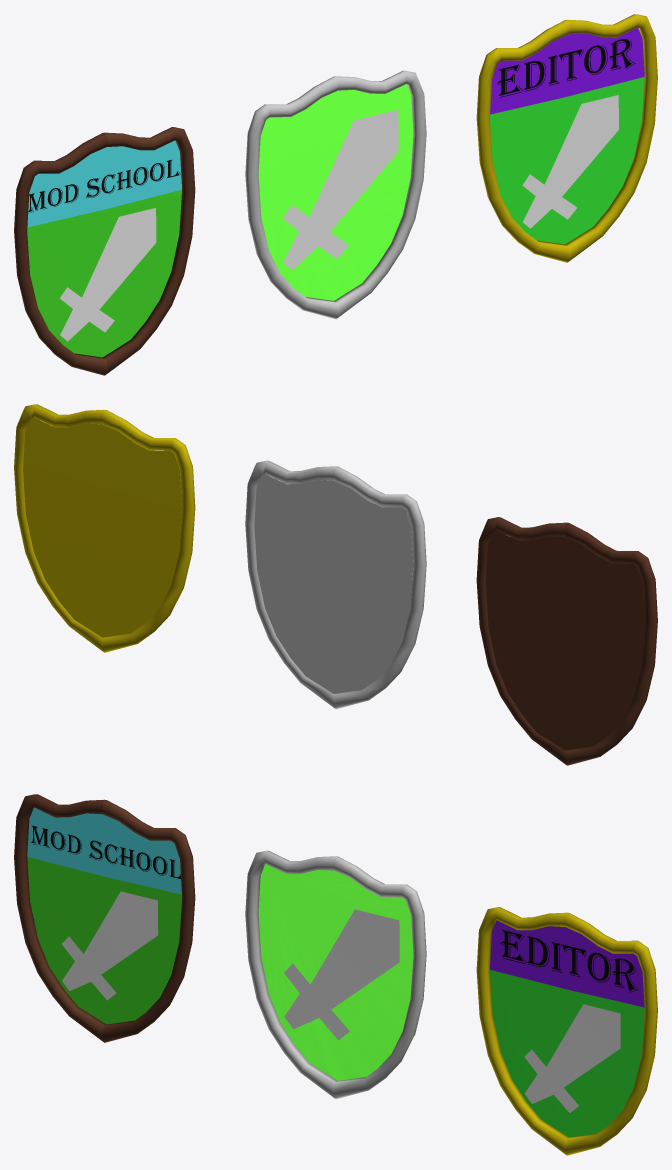
The model's file is Mod badges.fbx.
3 views of the same model, one above another, from view 1: azimuth 30°, elevation 25°; view 2: azimuth 150°, elevation 25°; view 3: azimuth 330°, elevation 25° (orthographic).
Parts seen in each view (by area): view 1: interior editor, Interior mod school, Interior, background mod school, background, background editor; view 2: background mod school, background, background editor; view 3: Interior mod school, interior editor, Interior, background editor, background, background mod school.
Part boxes in pixels (left/top/right/bottom): interior editor: left=490, top=27, right=644, bottom=244; Interior mod school: left=27, top=140, right=181, bottom=357; Interior: left=258, top=84, right=413, bottom=300; background mod school: left=14, top=127, right=195, bottom=375; background: left=245, top=70, right=426, bottom=319; background editor: left=476, top=14, right=657, bottom=262; background mod school: left=476, top=517, right=657, bottom=765; background: left=245, top=460, right=426, bottom=709; background editor: left=14, top=404, right=195, bottom=652; Interior mod school: left=27, top=807, right=181, bottom=1024; interior editor: left=490, top=920, right=644, bottom=1137; Interior: left=258, top=864, right=413, bottom=1080; background editor: left=476, top=907, right=657, bottom=1155; background: left=245, top=850, right=426, bottom=1099; background mod school: left=14, top=794, right=195, bottom=1042.
Size of the model in its own units: 277 by 100 by 3.63.
Materials: 1 (1 with a texture image).
